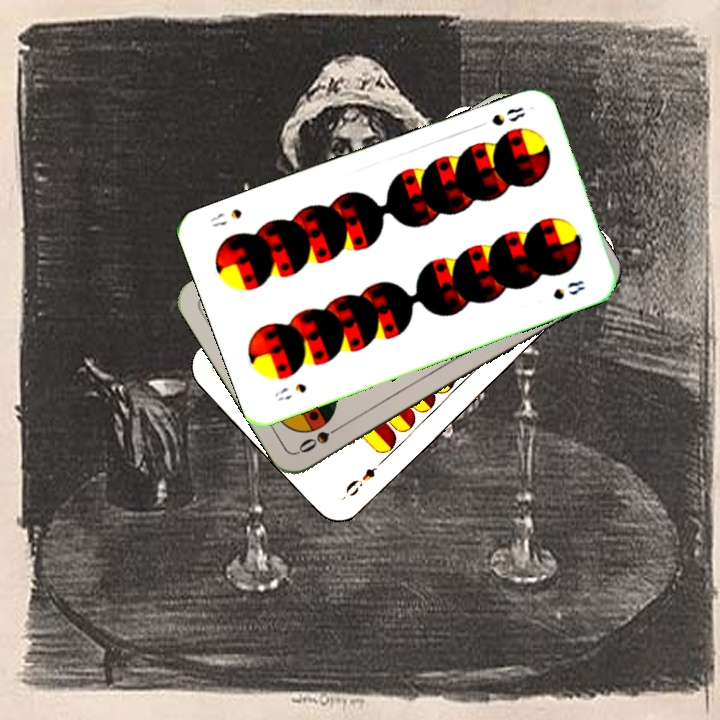E9: (341, 463, 380, 499)
S8: (488, 103, 528, 129), (270, 379, 309, 403)
SO: (294, 418, 348, 456)
